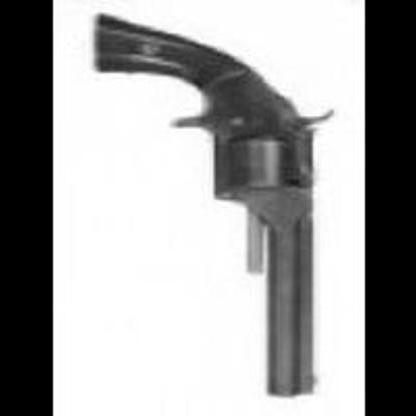weapon: (79, 9, 340, 406)
